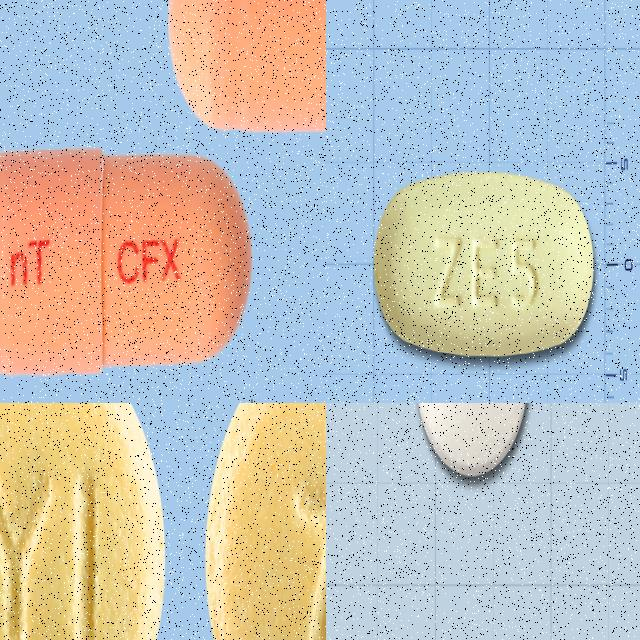Jecla: (374, 171, 595, 358)
Levopa: (0, 403, 164, 640), (205, 403, 326, 640)
NT-fixime Cap: (0, 147, 252, 376), (167, 0, 326, 136)
Unifixime Cap: (415, 403, 530, 478)
